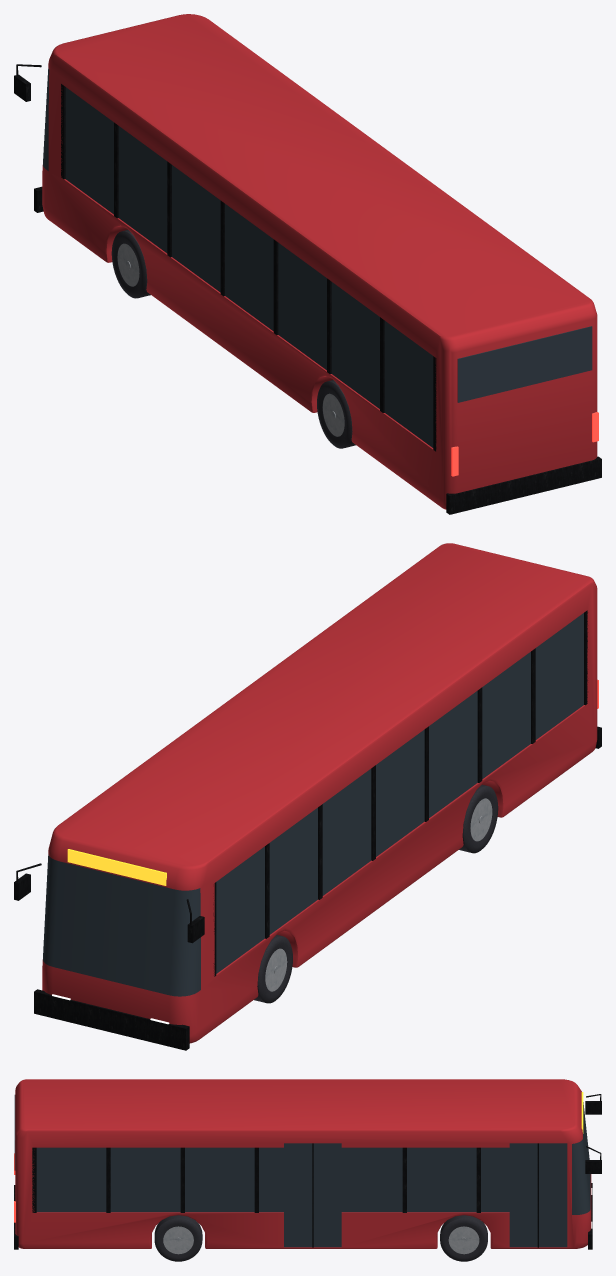
The model's file is bus_city_red.gltf.
3 views of the same model, one above another, from view 1: azimuth 30°, elevation 25°; view 2: azimuth 150°, elevation 25°; view 3: azimuth 270°, elevation 25° (orthographic). The views are drawn at different scales.
Parts seen in each view (by area): view 1: bus_city_red; view 2: bus_city_red; view 3: bus_city_red.
Boxes of the visible parts, x1=… form: bus_city_red: x1=14, y1=14, x2=601, y2=514; bus_city_red: x1=14, y1=543, x2=601, y2=1050; bus_city_red: x1=14, y1=1079, x2=601, y2=1261.
Bounding box in the file's own units: 2.99 × 3.05 × 12.26.
10 materials, 4 textured.
